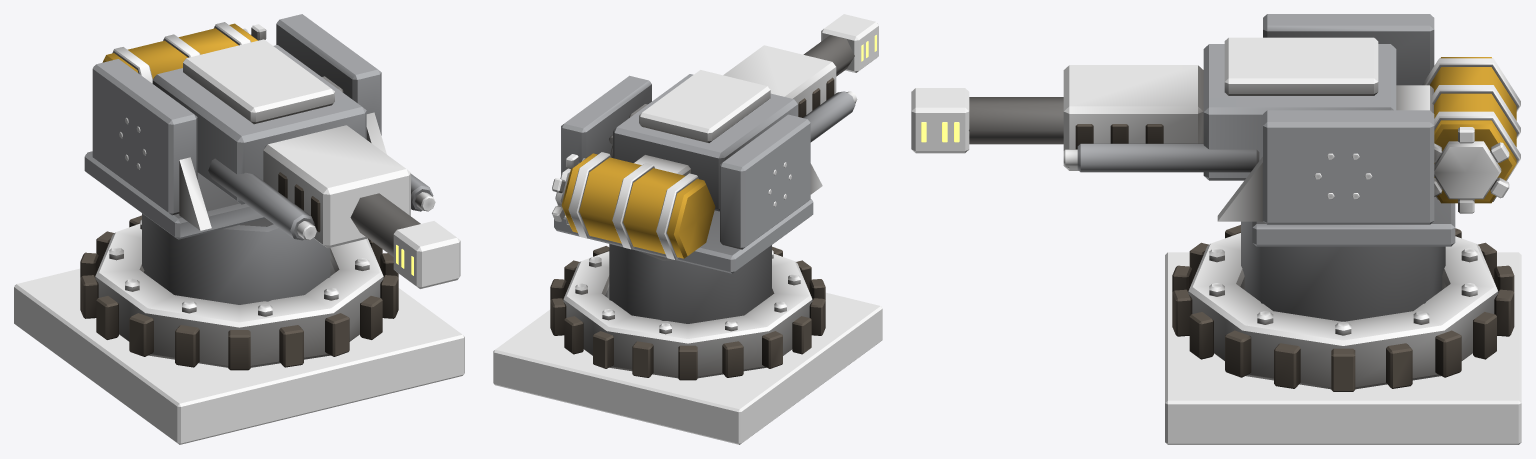
Rendered from R4W_Basic_LOD1.fbx.
The picture shows the model from 3 angles, left to right: view 1: azimuth 30°, elevation 25°; view 2: azimuth 150°, elevation 25°; view 3: azimuth 270°, elevation 25°; orthographic projection. The views are drawn at different scales.
Parts seen in each view (by area): view 1: R4W_Basic_LOD1; view 2: R4W_Basic_LOD1; view 3: R4W_Basic_LOD1.
Part boxes in pixels (left/top/right/bottom): R4W_Basic_LOD1: left=14, top=14, right=464, bottom=444; R4W_Basic_LOD1: left=493, top=14, right=882, bottom=444; R4W_Basic_LOD1: left=911, top=14, right=1521, bottom=444.
Bounding box in the file's own units: 0.51 × 0.494 × 0.873.
